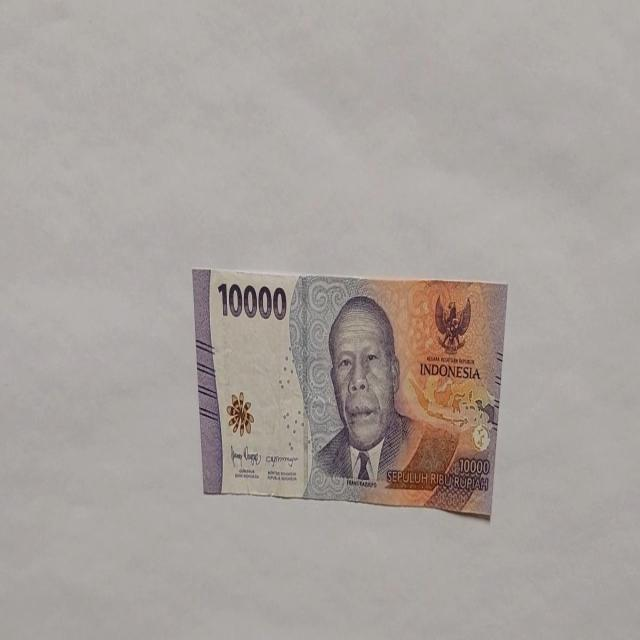Kertas: (192, 266, 508, 519), (216, 279, 288, 322)
